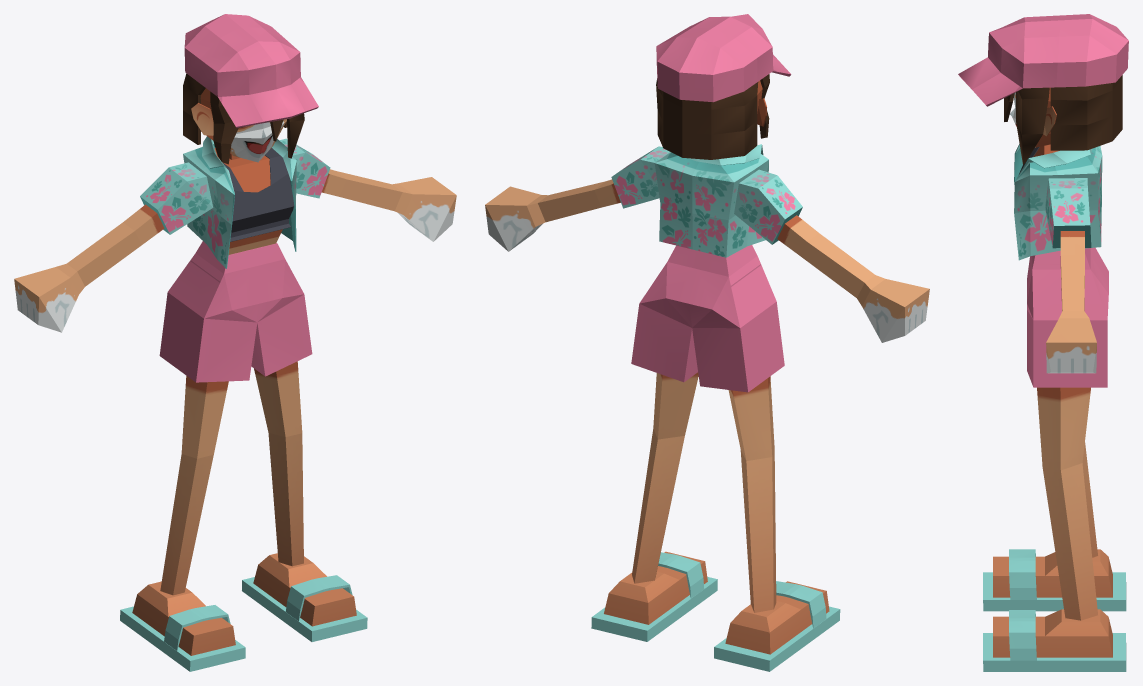
Rendered from Melee Zombie Female.glb.
The picture shows the model from 3 angles, left to right: view 1: azimuth 30°, elevation 25°; view 2: azimuth 150°, elevation 25°; view 3: azimuth 270°, elevation 25°; orthographic projection.
Visible parts, largest first — view 1: Body, Head; view 2: Body, Head; view 3: Body, Head.
Boxes of the visible parts, x1,y1,x2,y2 form: Body: (14,136,456,671); Head: (183,14,318,164); Body: (485,144,929,671); Head: (656,14,791,159); Body: (983,144,1126,671); Head: (958,14,1128,164).
Size of the model in its own units: 1.28 by 1.75 by 0.4439.
Materials: 8 (8 with a texture image).
